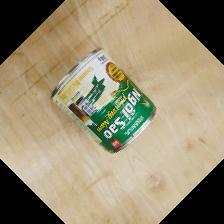NSPN_Lon: (49, 47, 158, 155)
